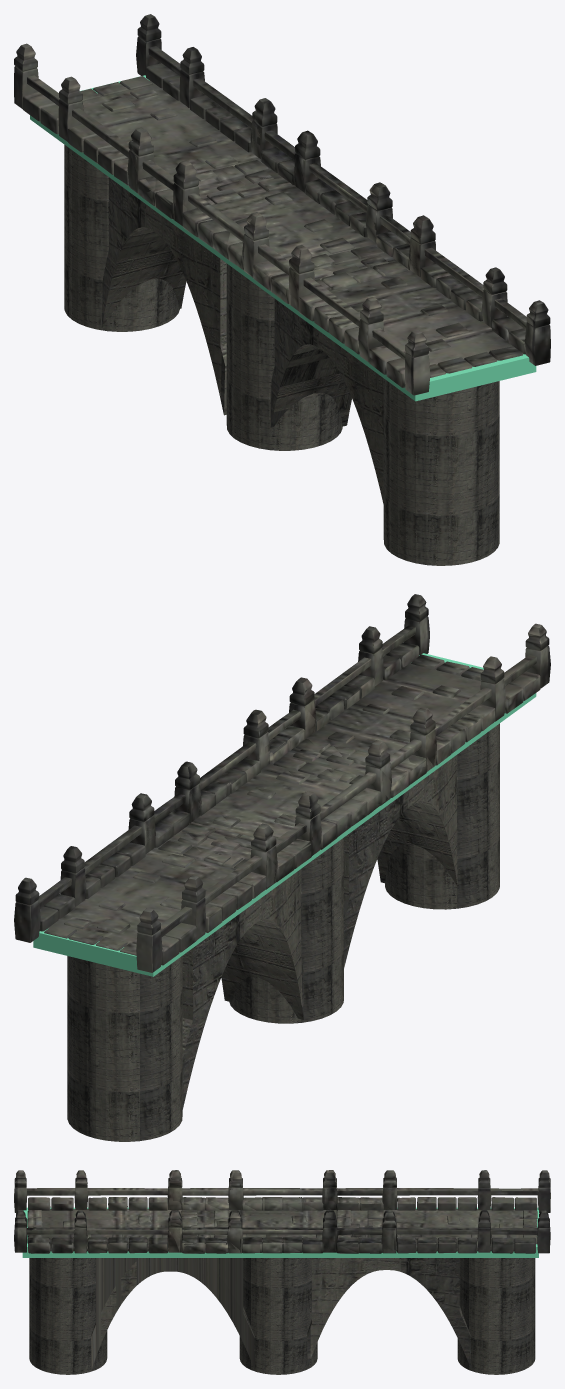
Rendered from puente_Piedra.glb.
The picture shows the model from 3 angles, top to bottom: view 1: azimuth 30°, elevation 25°; view 2: azimuth 150°, elevation 25°; view 3: azimuth 270°, elevation 25°; orthographic projection. The views are drawn at different scales.
Visible parts, largest first — view 1: Bridge.12, Circle.003, Plane.001, Circle.002, Circle.001, Plane.002, Plane; view 2: Bridge.12, Circle.001, Plane.001, Circle.003, Circle.002, Plane.002, Plane; view 3: Bridge.12, Circle.001, Circle.003, Circle.002, Plane.002, Plane.001, Plane.
Part boxes in pixels (left/top/right/bottom): Bridge.12: left=14, top=14, right=550, bottom=395; Circle.003: left=383, top=378, right=499, bottom=565; Plane.001: left=101, top=177, right=226, bottom=415; Circle.002: left=226, top=263, right=342, bottom=450; Circle.001: left=64, top=145, right=179, bottom=331; Plane.002: left=269, top=299, right=383, bottom=503; Plane: left=30, top=75, right=536, bottom=401; Bridge.12: left=14, top=594, right=550, bottom=972; Circle.001: left=67, top=956, right=182, bottom=1141; Plane.001: left=182, top=869, right=303, bottom=1109; Circle.003: left=385, top=723, right=499, bottom=909; Circle.002: left=229, top=837, right=343, bottom=1023; Plane.002: left=344, top=755, right=457, bottom=967; Plane: left=33, top=653, right=536, bottom=976; Bridge.12: left=14, top=1170, right=550, bottom=1253; Circle.001: left=457, top=1258, right=535, bottom=1374; Circle.003: left=29, top=1258, right=107, bottom=1374; Circle.002: left=239, top=1258, right=317, bottom=1374; Plane.002: left=91, top=1258, right=254, bottom=1369; Plane.001: left=307, top=1258, right=471, bottom=1369; Plane: left=22, top=1207, right=538, bottom=1257.
Bounding box in the file's own units: 12.17 × 20.53 × 59.61.
Materials: 2 (1 with a texture image).
